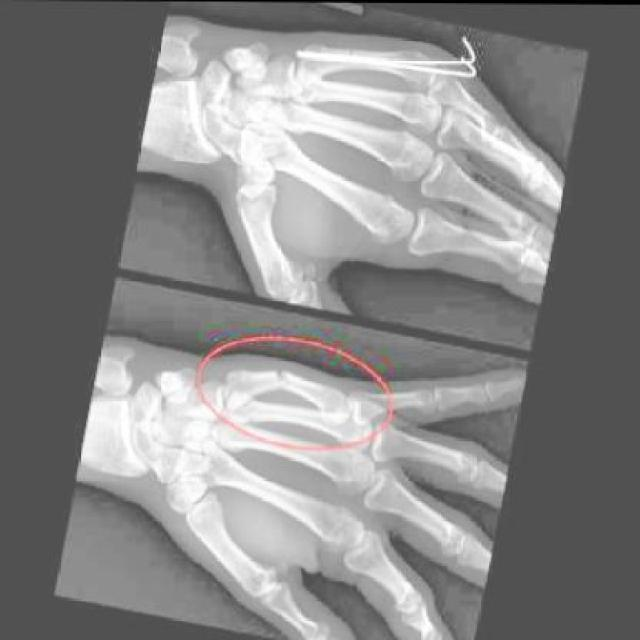Fracture: (259, 357, 305, 401), (336, 37, 373, 70)
